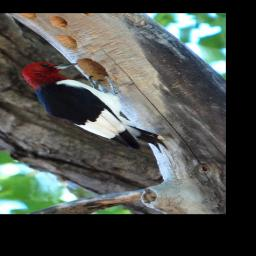Woodpecker: (24, 61, 174, 153)
